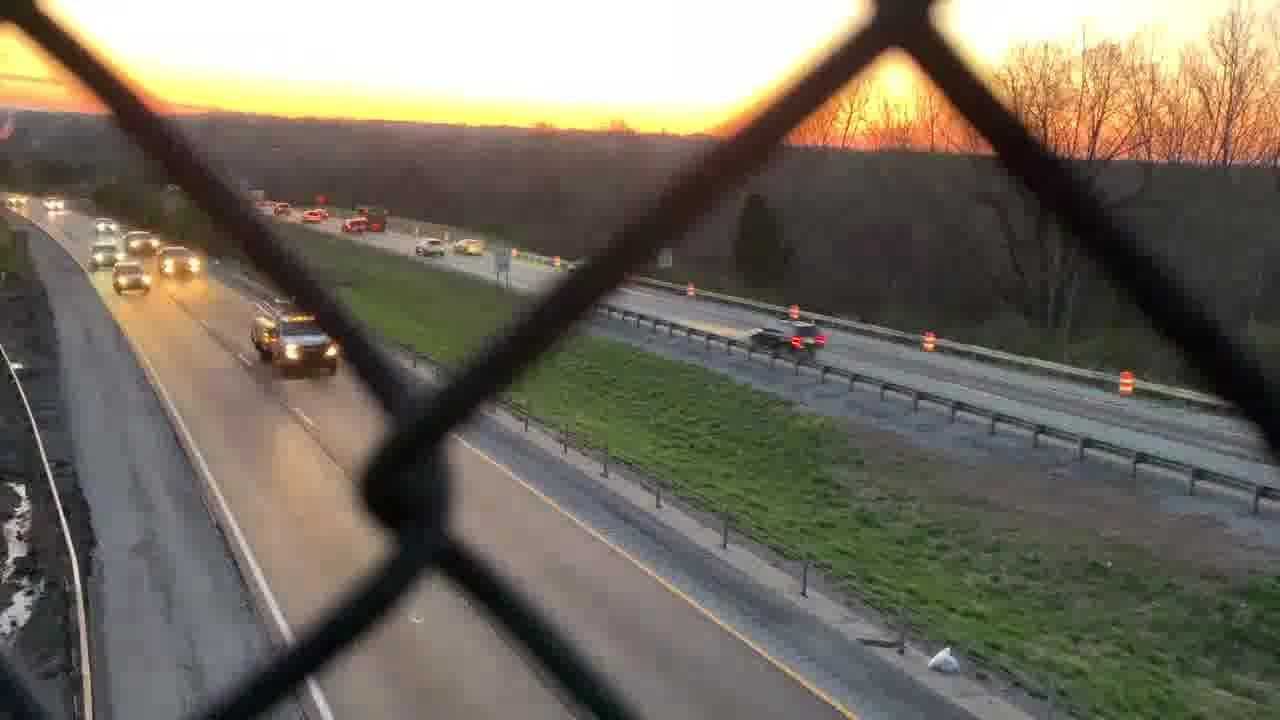largeCar: (749, 316, 833, 357), (413, 236, 443, 258)
lightTruck: (246, 293, 338, 371)
vehicle: (157, 243, 204, 277), (125, 226, 164, 260), (110, 262, 148, 295), (86, 244, 120, 270), (91, 213, 117, 236), (41, 193, 66, 214), (456, 239, 484, 255), (3, 193, 31, 209), (339, 221, 367, 235), (301, 212, 326, 226), (274, 203, 293, 214)
